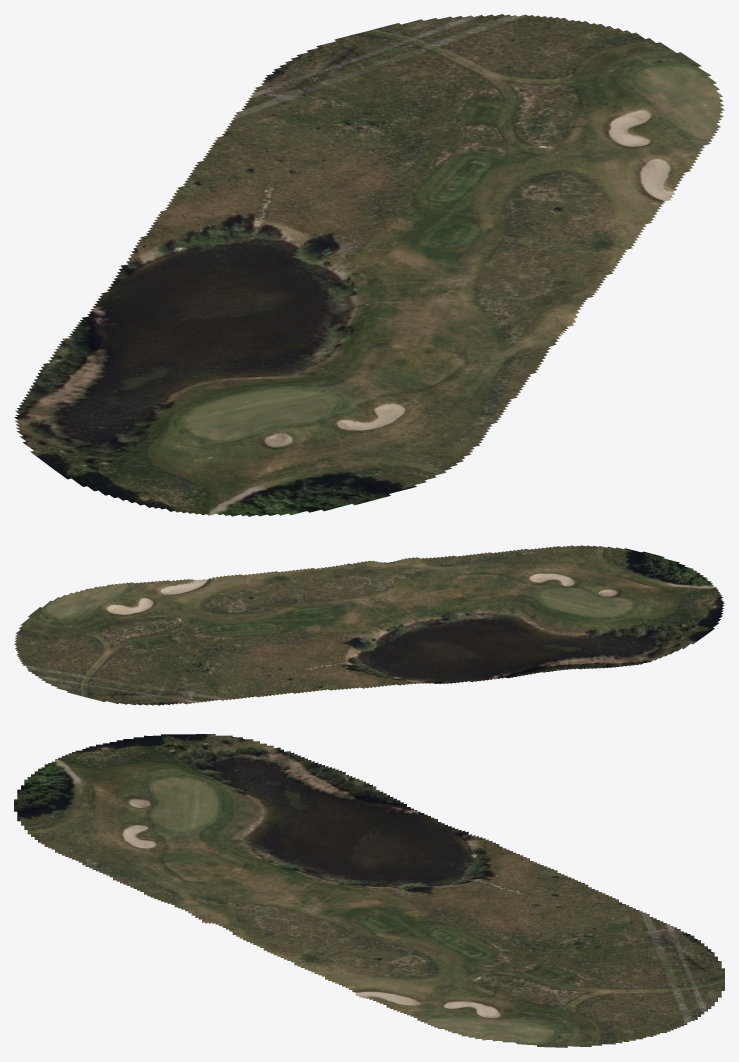
Rendered from black_8.glb.
3 renders of one model, top to bottom at view 1: azimuth 30°, elevation 25°; view 2: azimuth 150°, elevation 25°; view 3: azimuth 270°, elevation 25°, orthographic. The views are drawn at different scales.
Parts seen in each view (by area): view 1: ground; view 2: ground; view 3: ground.
Boxes of the visible parts, left/top/right/bottom form: ground: left=14, top=14, right=724, bottom=516; ground: left=14, top=545, right=724, bottom=705; ground: left=14, top=734, right=724, bottom=1047.
Size of the model in its own units: 220 by 3.94 by 208.
Materials: 1 (1 with a texture image).
